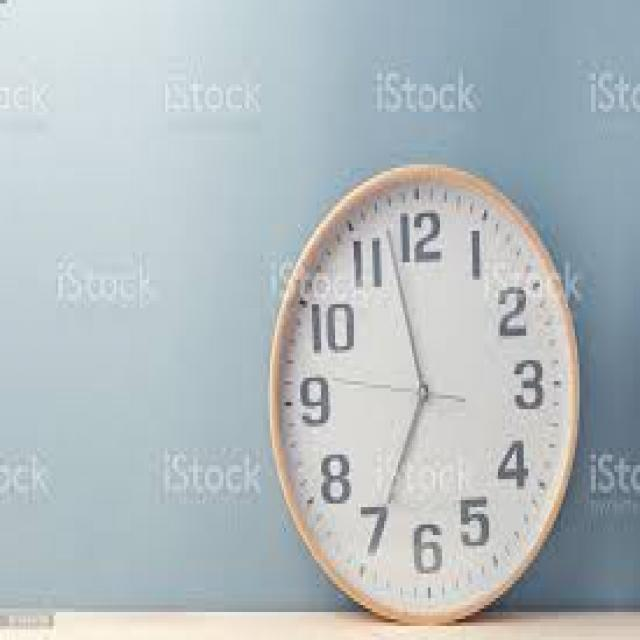Clocks-images: (270, 164, 581, 633)
